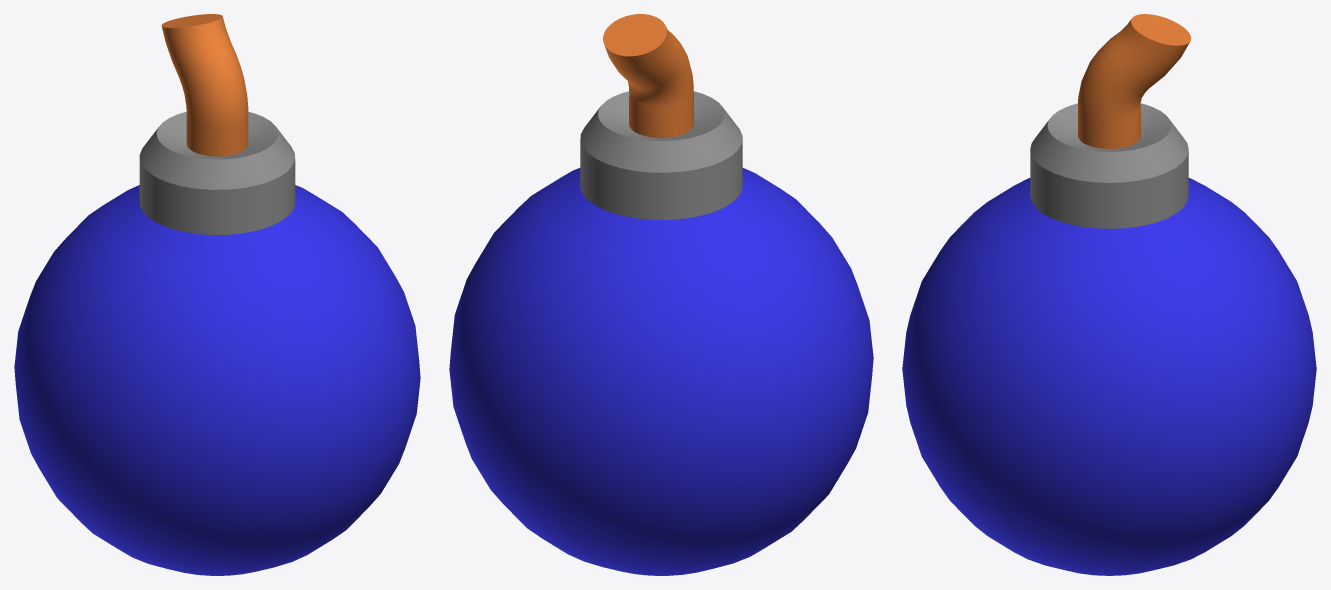
Rendered from ZeldaBomb.fbx.
3 views of the same model, side by side, from view 1: azimuth 30°, elevation 25°; view 2: azimuth 150°, elevation 25°; view 3: azimuth 270°, elevation 25° (orthographic). The views are drawn at different scales.
Parts seen in each view (by area): view 1: Sphere; view 2: Sphere; view 3: Sphere.
Boxes of the visible parts, x1,y1,x2,y2 form: Sphere: (14,14,420,575); Sphere: (449,14,873,575); Sphere: (902,14,1316,575).
Size of the model in its own units: 200 by 285 by 200.
